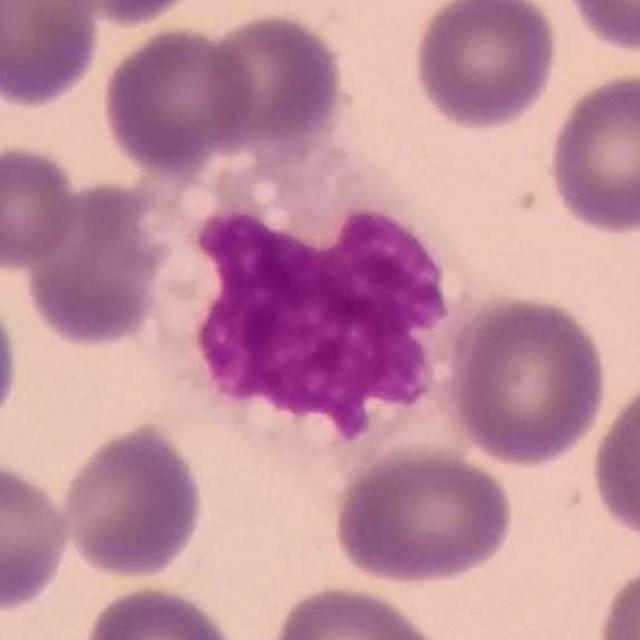mono: (137, 132, 525, 521)
